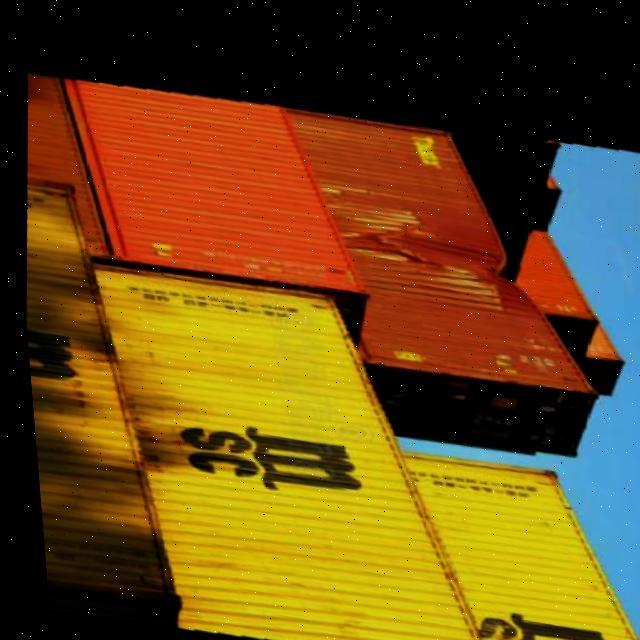dent: (365, 192, 511, 303)
